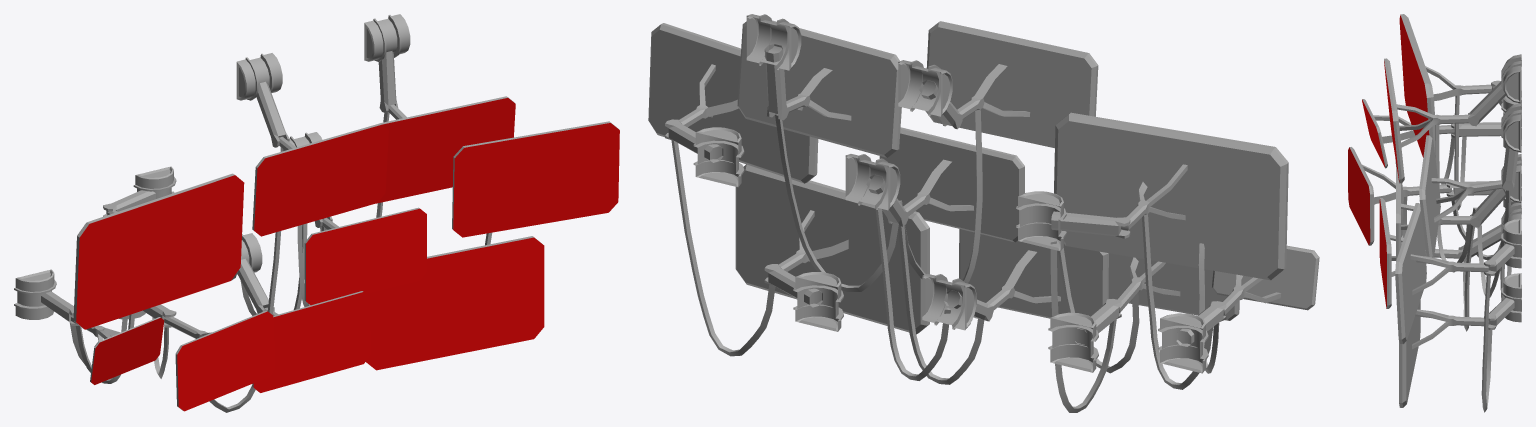
File: SM_schermi_centrali.fbx
3 views of the same model, side by side, from view 1: azimuth 30°, elevation 25°; view 2: azimuth 150°, elevation 25°; view 3: azimuth 270°, elevation 25° (orthographic). The views are drawn at different scales.
Visible parts, largest first — view 1: SM_monitor_polySurface1, SM_monitor_polySurface2; view 2: SM_monitor_polySurface2; view 3: SM_monitor_polySurface2, SM_monitor_polySurface1.
Boxes of the visible parts, x1,y1,x2,y2 form: SM_monitor_polySurface1: (76, 98, 619, 411); SM_monitor_polySurface2: (14, 14, 619, 412); SM_monitor_polySurface2: (648, 14, 1319, 412); SM_monitor_polySurface2: (1349, 14, 1521, 412); SM_monitor_polySurface1: (1348, 15, 1429, 308).
Bounding box in the file's own units: 448 × 246 × 139.
